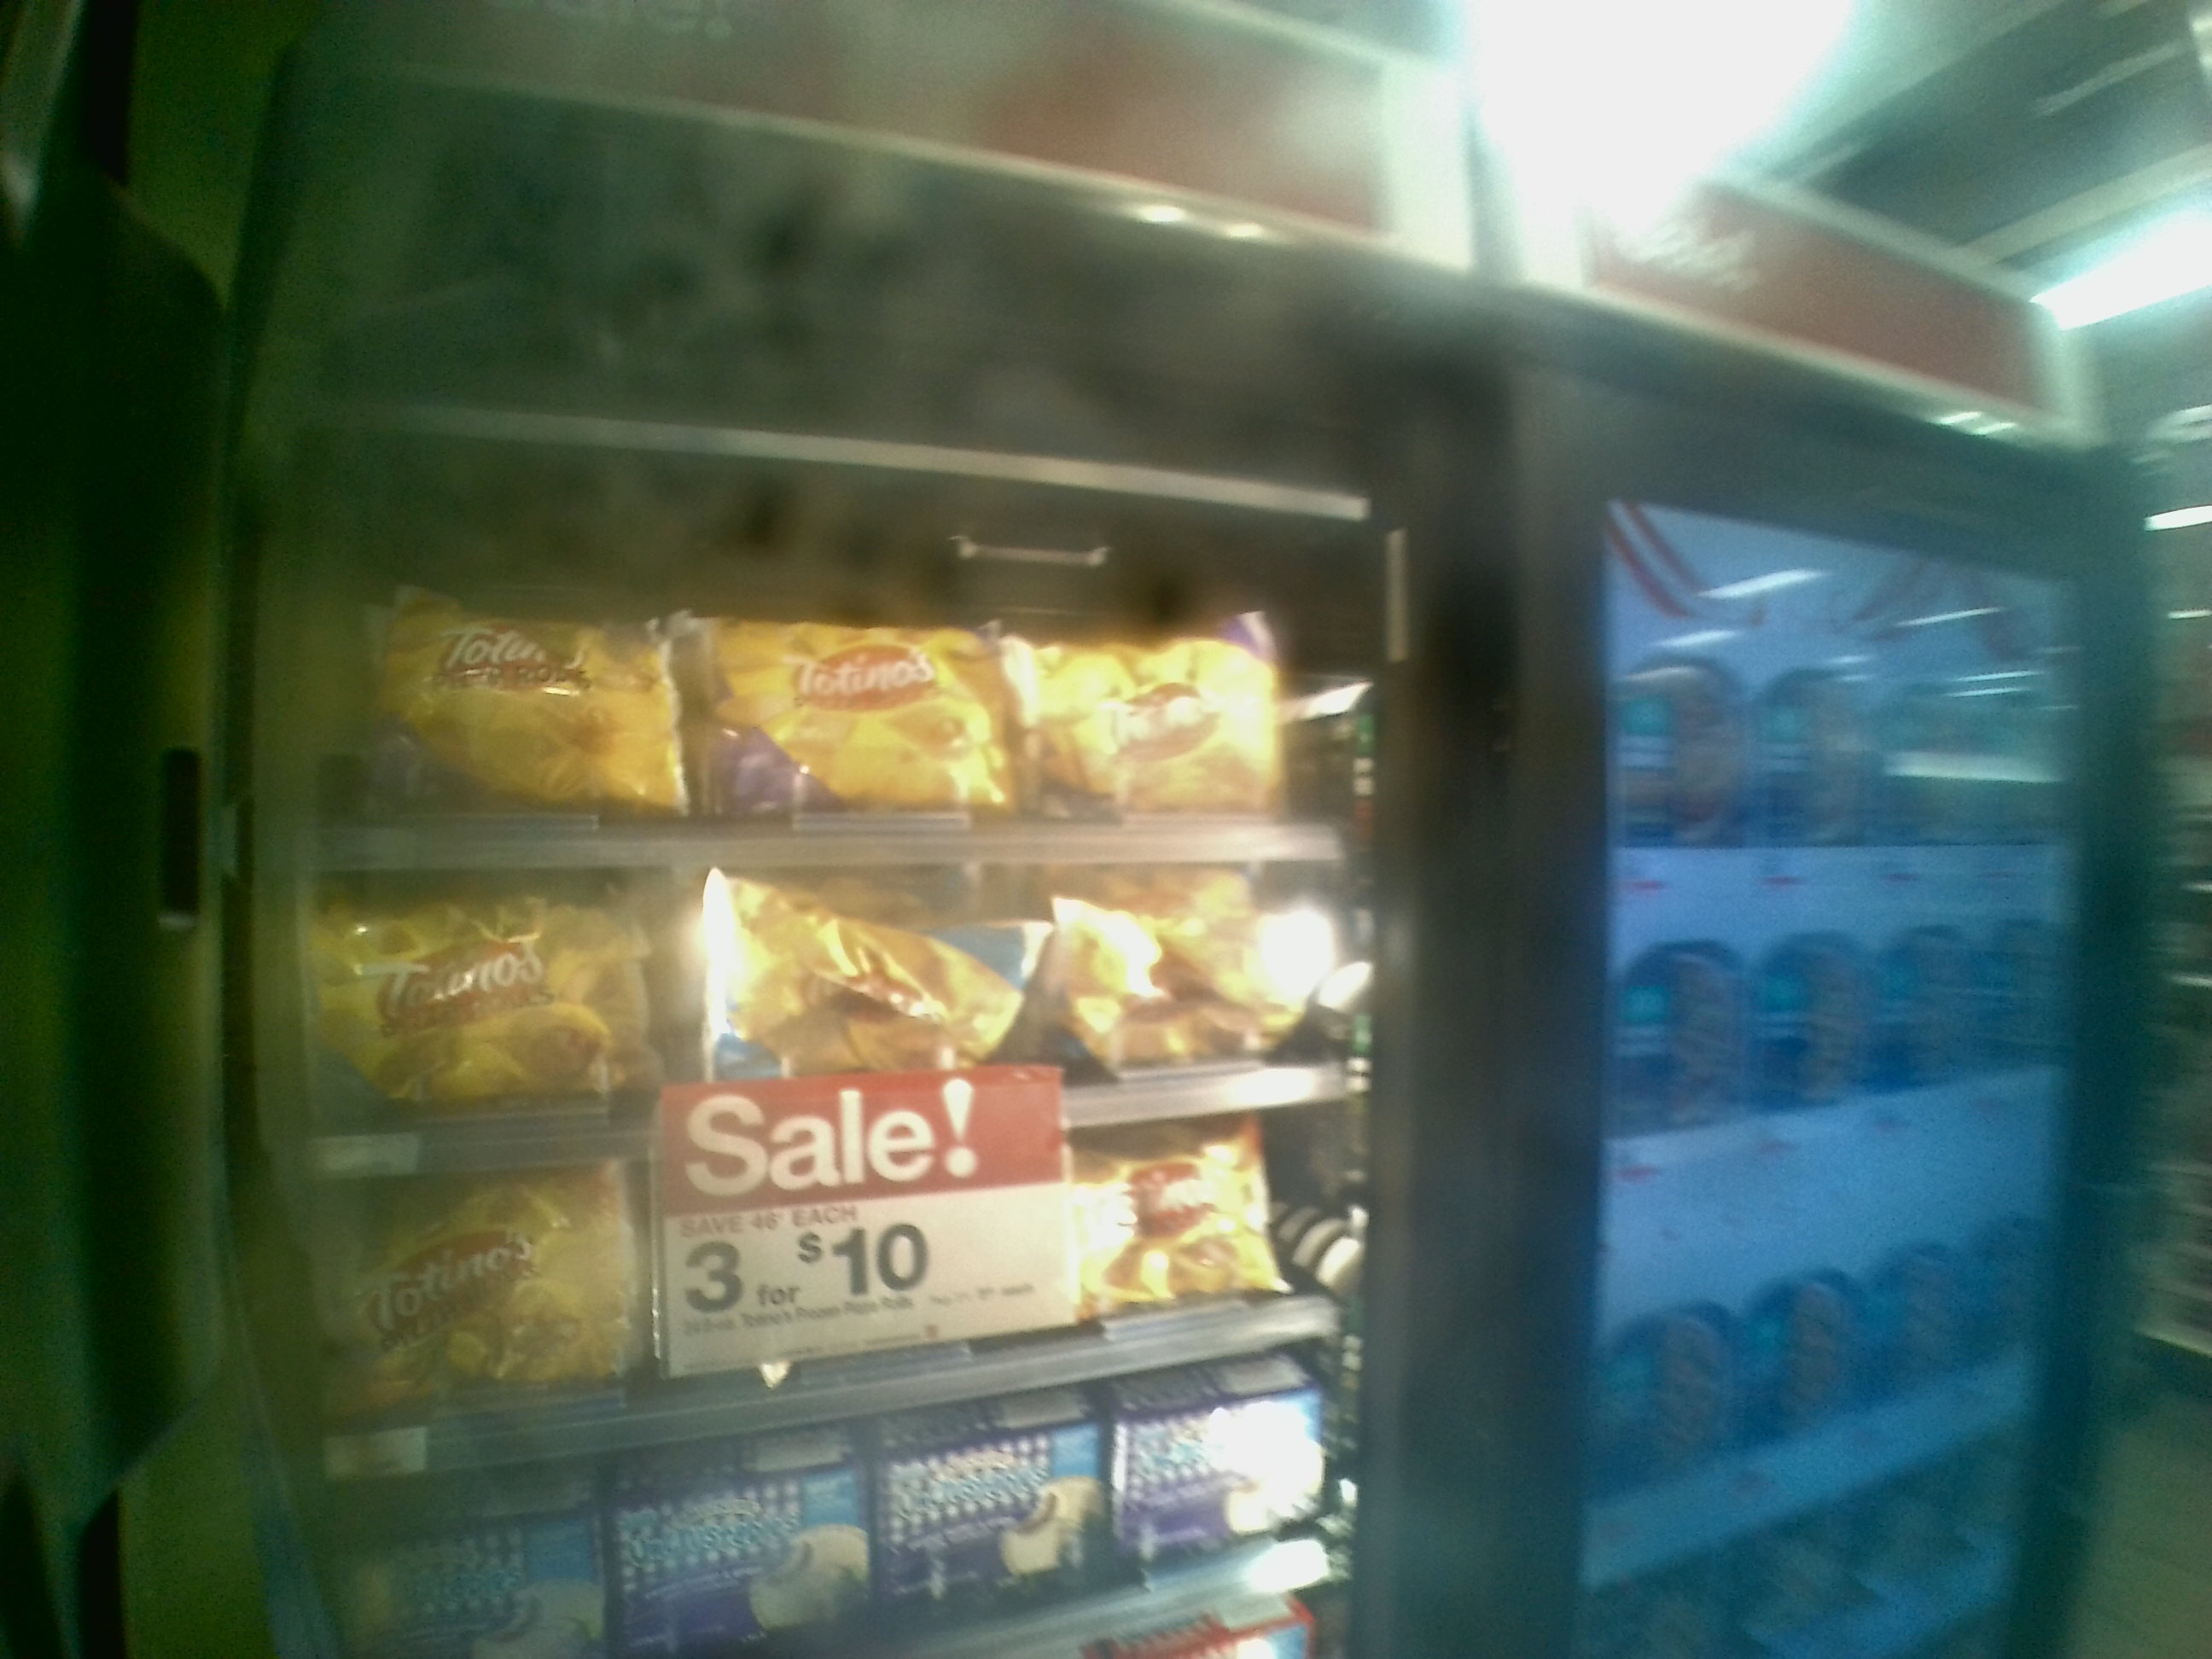shelf: (275, 1093, 1346, 1371), (273, 842, 1359, 1114)
